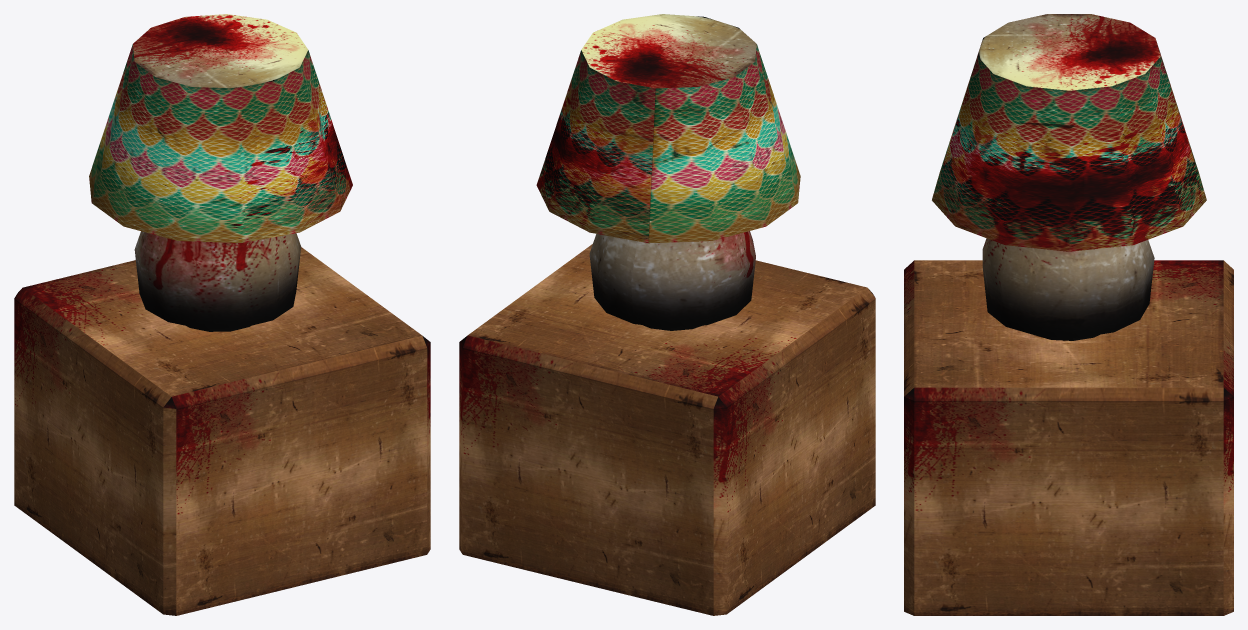
Rendered from LightBed.FBX.
3 renders of one model, left to right at view 1: azimuth 30°, elevation 25°; view 2: azimuth 150°, elevation 25°; view 3: azimuth 270°, elevation 25°, orthographic. The views are drawn at different scales.
Visible parts, largest first — view 1: Cylinder003; view 2: Cylinder003; view 3: Cylinder003.
Boxes of the visible parts, bbox=[...] form: Cylinder003: bbox=[14, 14, 430, 615]; Cylinder003: bbox=[459, 14, 875, 615]; Cylinder003: bbox=[904, 14, 1233, 615].
Size of the model in its own units: 20.73 by 35.29 by 21.3.
2 materials, 2 textured.
